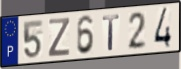2: (127, 10, 147, 52)
4: (152, 6, 174, 50)
5: (22, 18, 45, 60)
6: (76, 14, 95, 57)
T: (101, 13, 121, 52)
Z: (47, 17, 72, 58)
